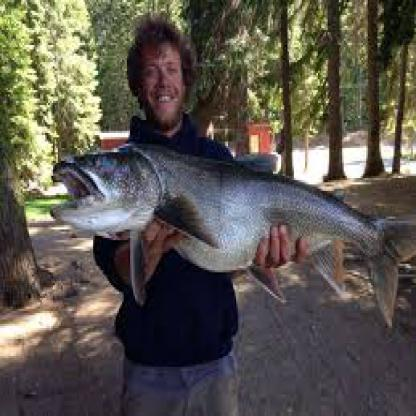fish: (48, 142, 414, 324)
